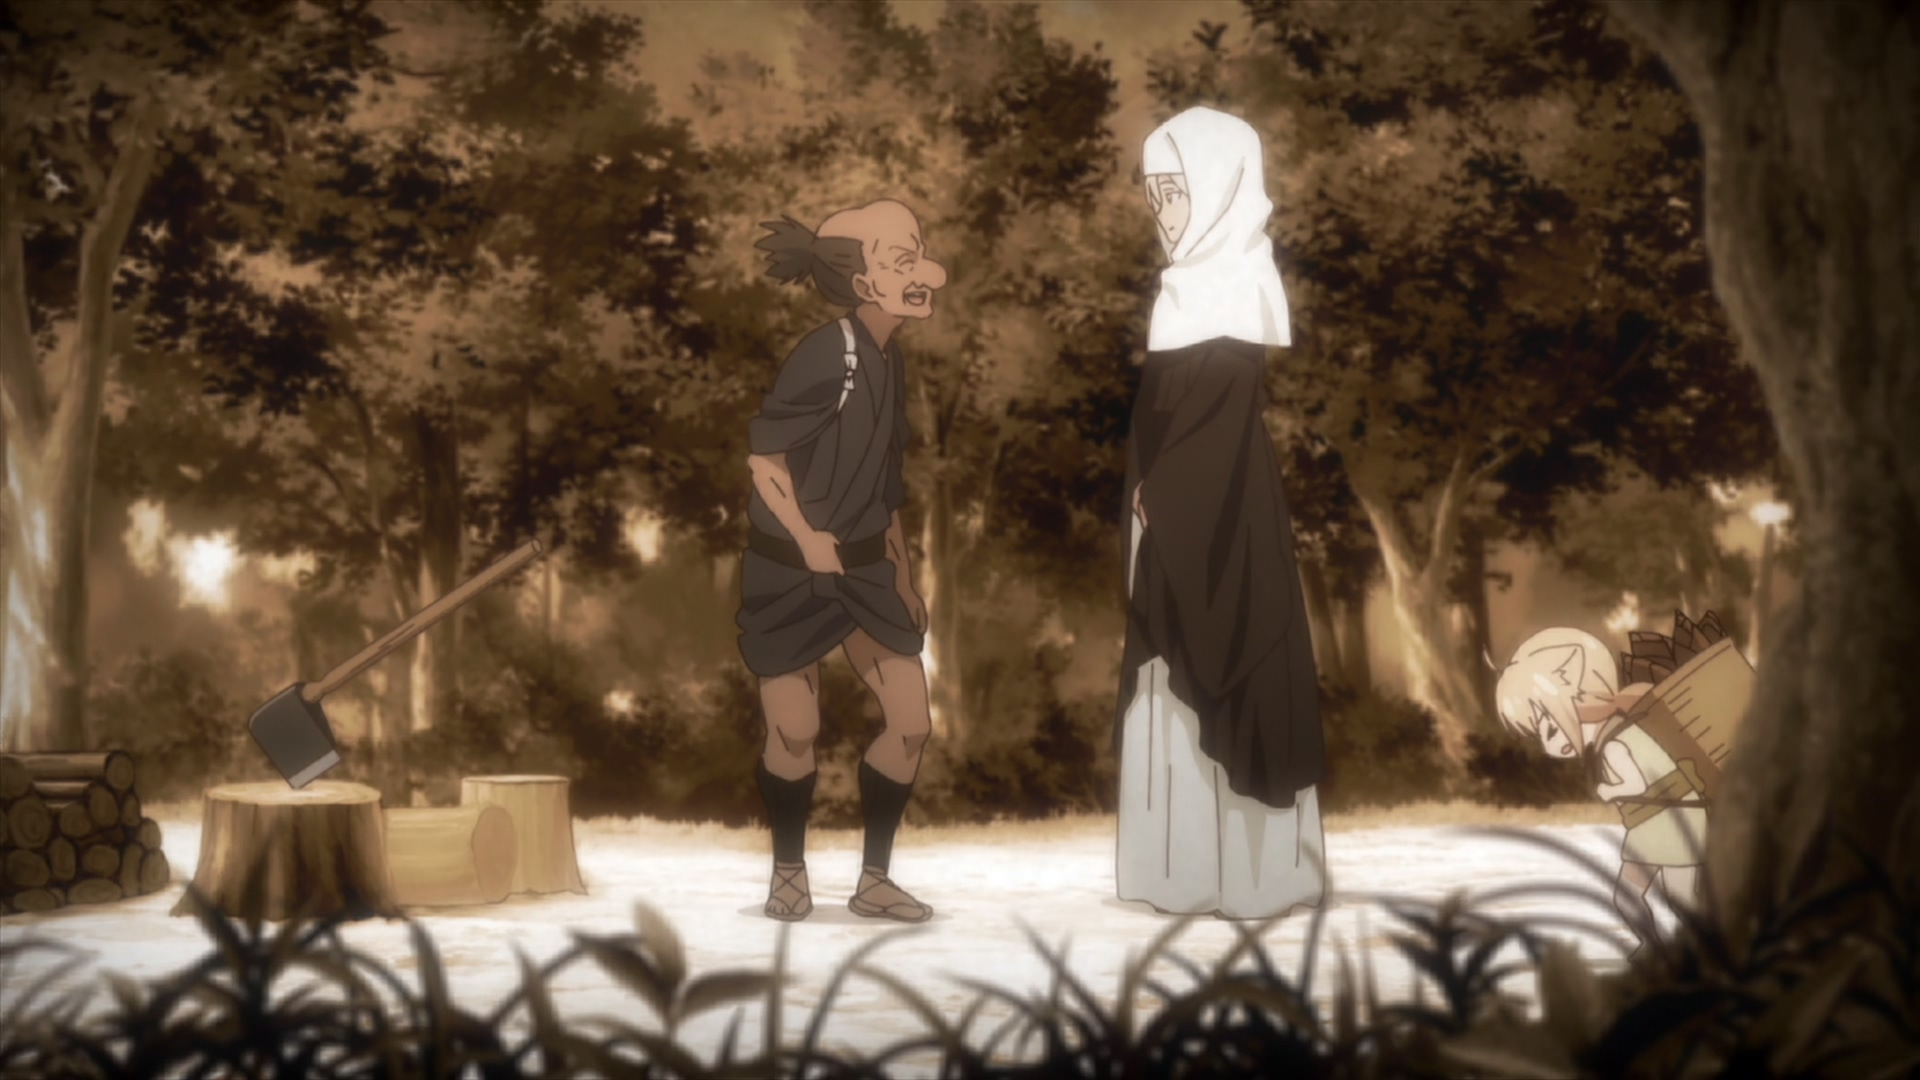八百比丘尼: (1116, 107, 1329, 919)
其他: (736, 196, 949, 924)
柚: (1485, 626, 1706, 963)
